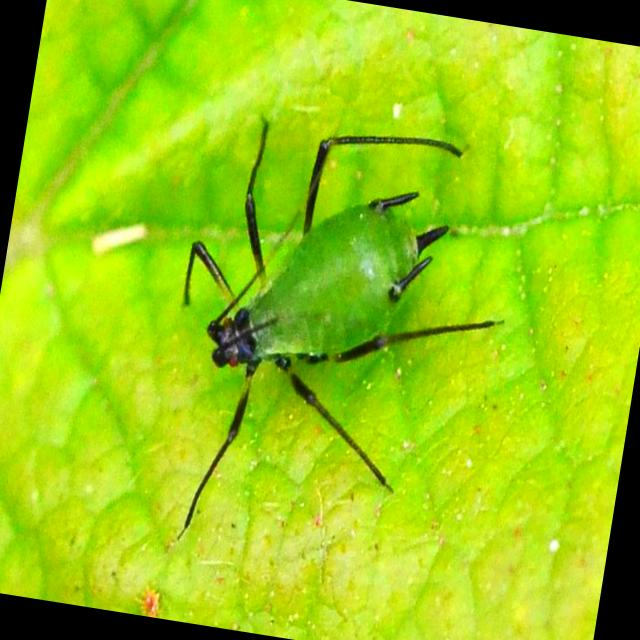Aphids: (126, 68, 532, 580)
